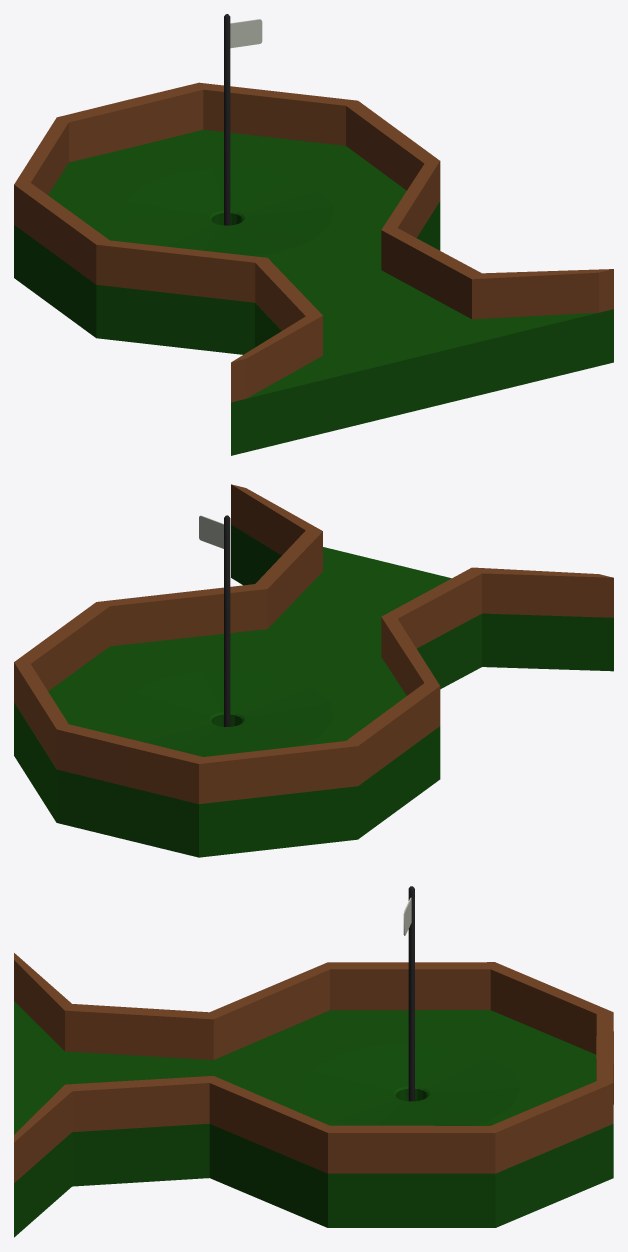
Rendered from minigolf_hole.glb.
The picture shows the model from 3 angles, top to bottom: view 1: azimuth 30°, elevation 25°; view 2: azimuth 150°, elevation 25°; view 3: azimuth 270°, elevation 25°; orthographic projection.
Parts seen in each view (by area): view 1: Goal, Side.005, Flag; view 2: Goal, Side.005, Flag; view 3: Goal, Side.005, Flag.
Boxes of the visible parts, bbox=[...] form: Goal: bbox=[14, 129, 613, 455]; Side.005: bbox=[14, 82, 613, 402]; Flag: bbox=[224, 14, 262, 225]; Goal: bbox=[14, 524, 613, 857]; Side.005: bbox=[14, 484, 613, 803]; Flag: bbox=[199, 515, 230, 726]; Goal: bbox=[14, 1001, 613, 1237]; Side.005: bbox=[14, 953, 613, 1182]; Flag: bbox=[403, 886, 414, 1101].
Size of the model in its own units: 1.5 by 0.9412 by 2.
